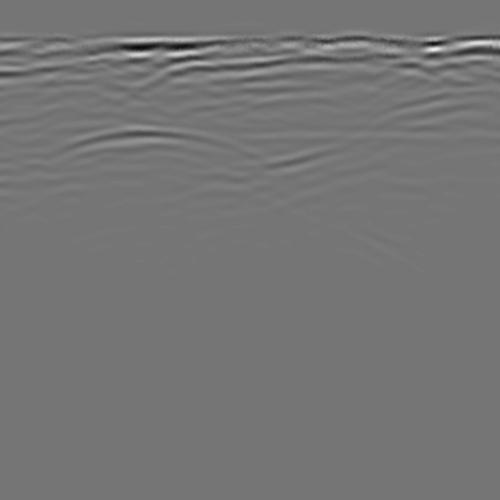hyperbola: (16, 117, 296, 226)
